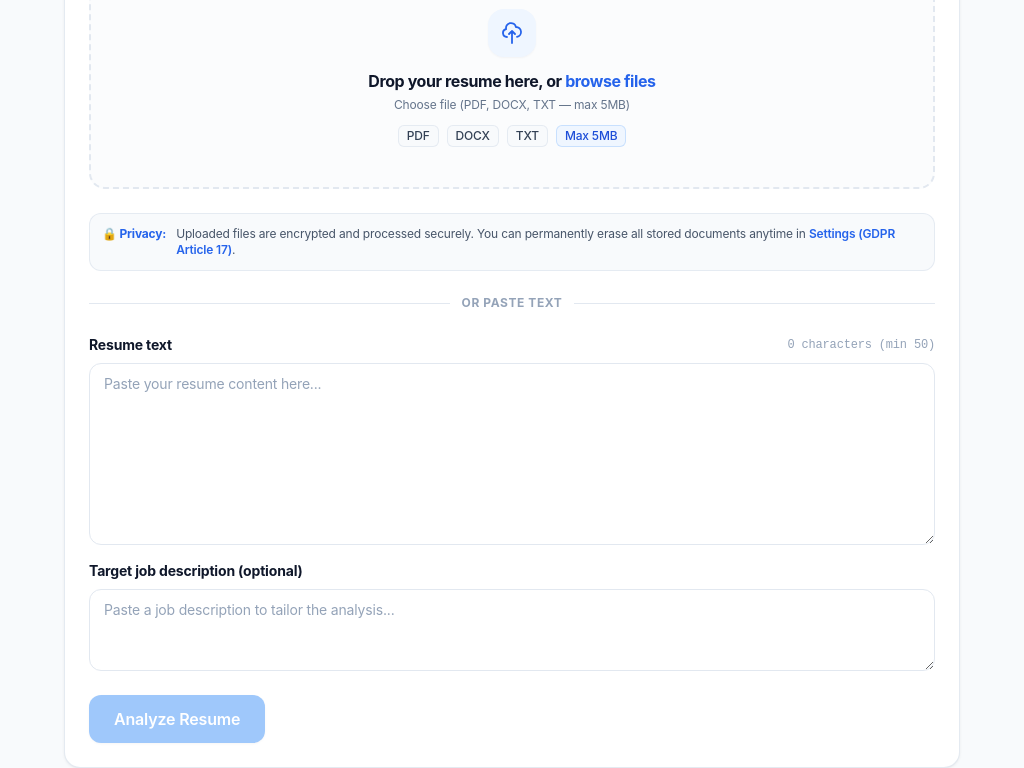
Test: ResumePage Component › analyzes pasted text and displays score and results
This screenshot has width=1024, height=768.
(page scrolled)
Type "Senior Full Stack Software Engineer with 6 years experience building React and TypeScript applications with Python backends." into the text box with placeholder "Paste your resume content here..." at (512, 454), box x1=89 y1=363 x2=935 y2=545
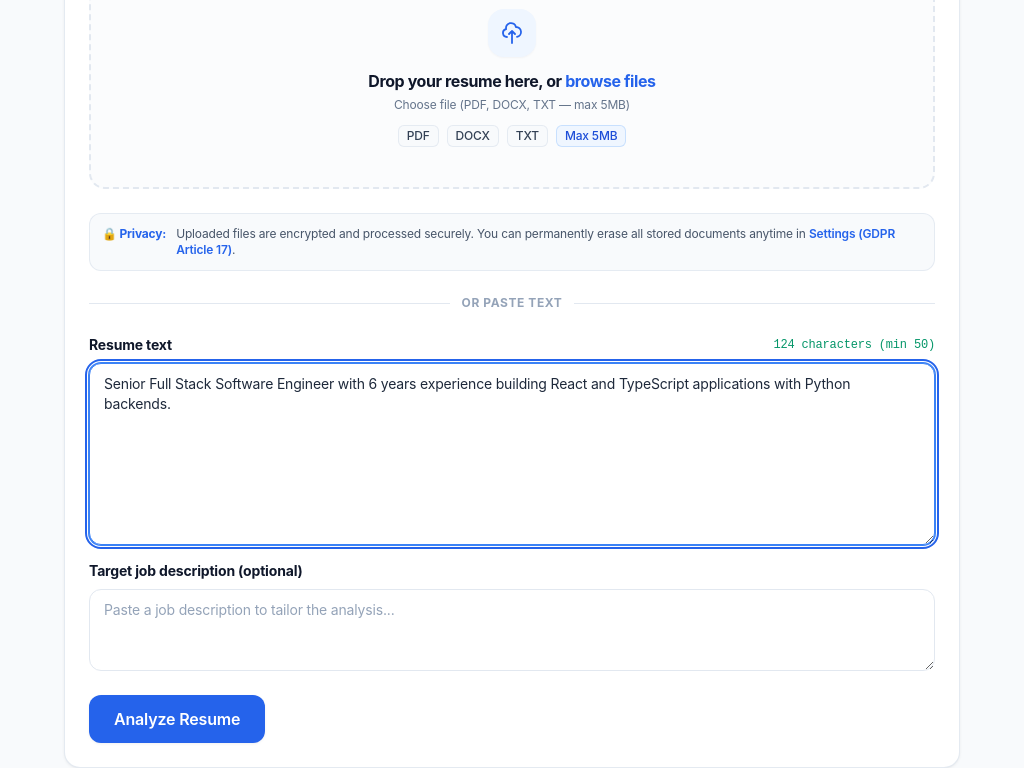
Click the button "Analyze Resume" at (177, 719), box x1=89 y1=695 x2=265 y2=743
(page scrolled)
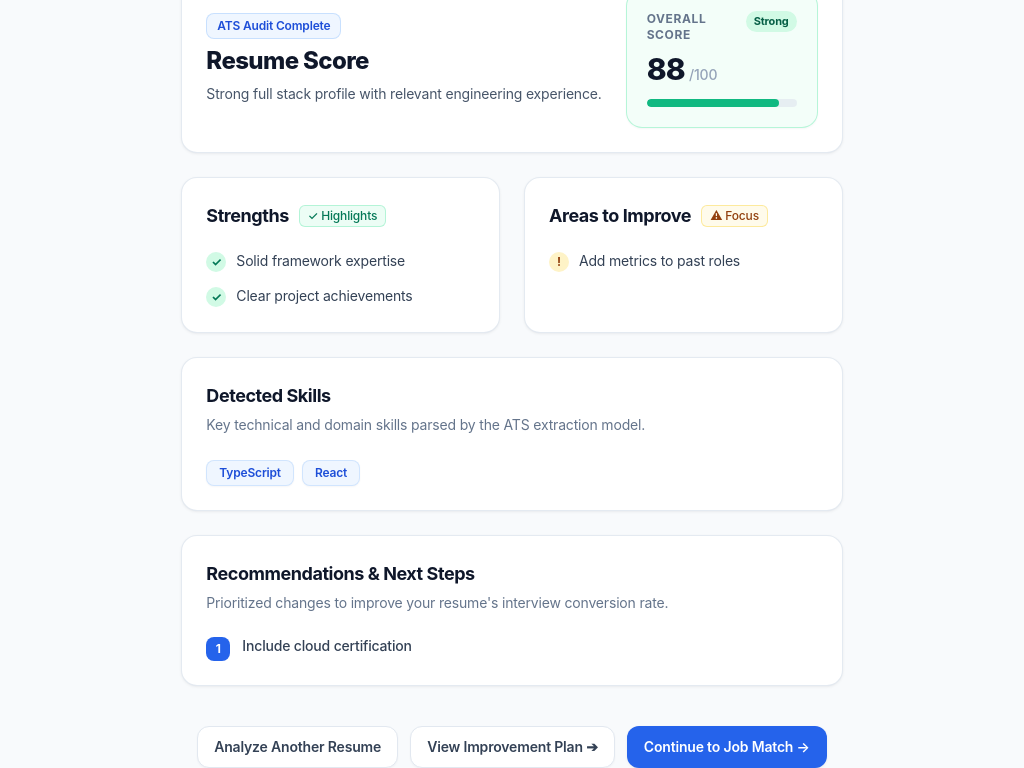
expect the text "88" is shown: met, box x1=647 y1=51 x2=685 y2=87
expect the text "Strong full stack profile" is shown: met, box x1=206 y1=85 x2=602 y2=102
expect the text "TypeScript" is shown: met, box x1=206 y1=460 x2=294 y2=486
